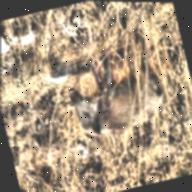boar: (50, 39, 184, 155)
